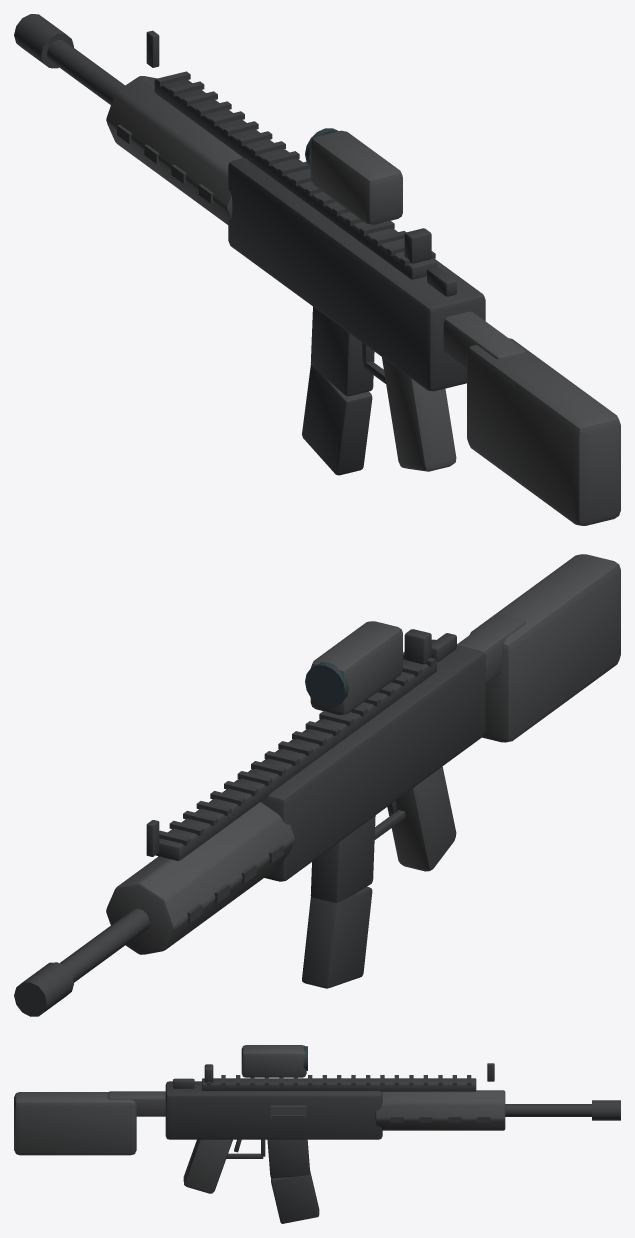
Rendered from gun.glb.
3 renders of one model, top to bottom at view 1: azimuth 30°, elevation 25°; view 2: azimuth 150°, elevation 25°; view 3: azimuth 270°, elevation 25°, orthographic. The views are drawn at different scales.
Parts seen in each view (by area): view 1: rifle; view 2: rifle; view 3: rifle.
Part boxes in pixels (left/top/right/bottom): rifle: left=14, top=14, right=620, bottom=525; rifle: left=14, top=554, right=620, bottom=1016; rifle: left=14, top=1045, right=620, bottom=1223.
Bounding box in the file's own units: 0.062 × 0.2649 × 0.84.
